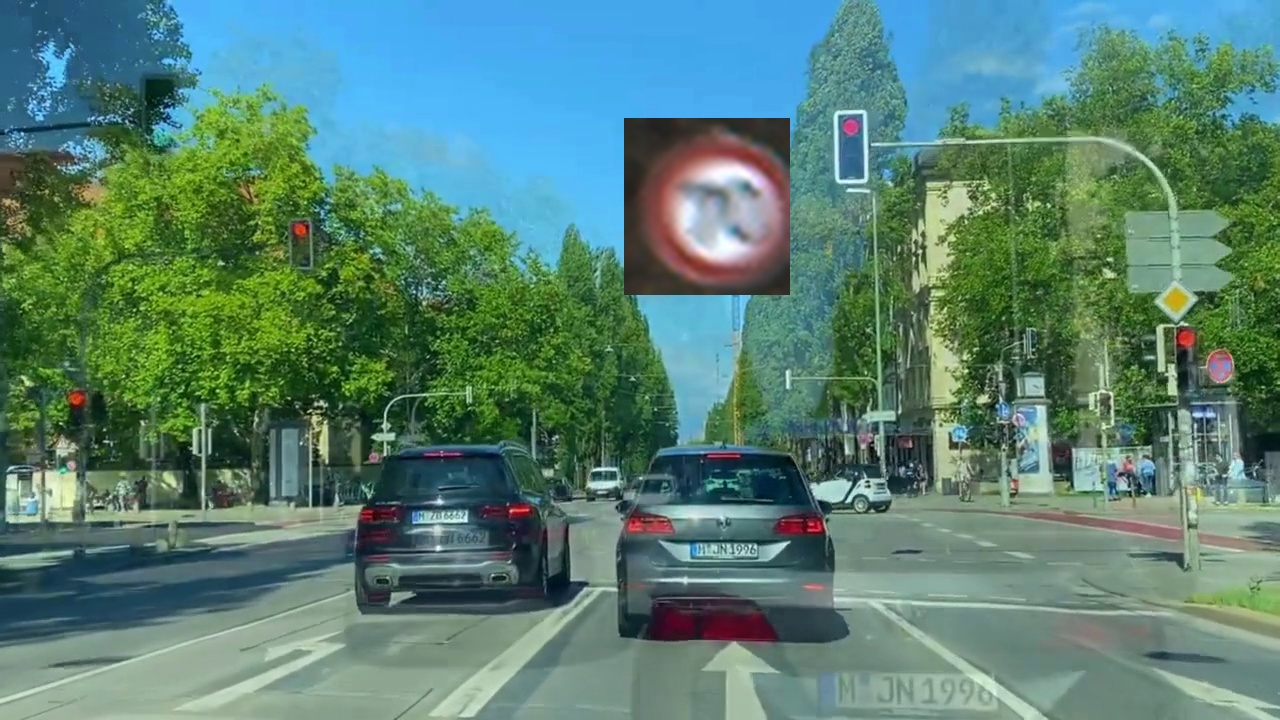Speed 70: (624, 118, 790, 295)
